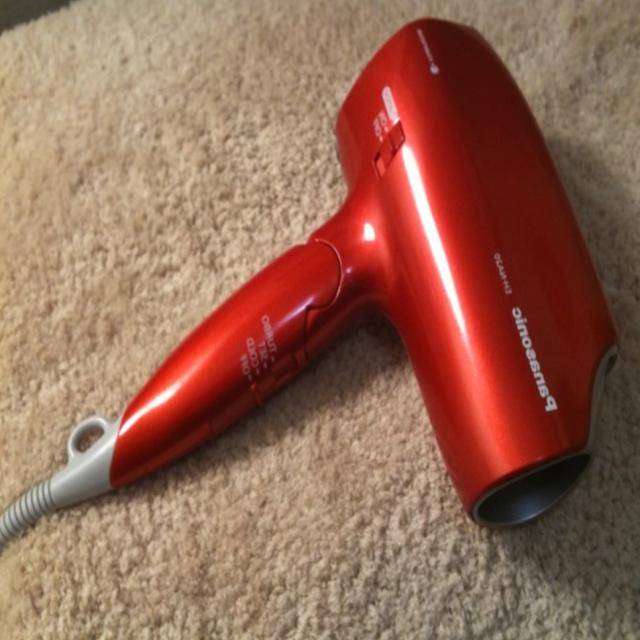dryer: (9, 0, 634, 574)
